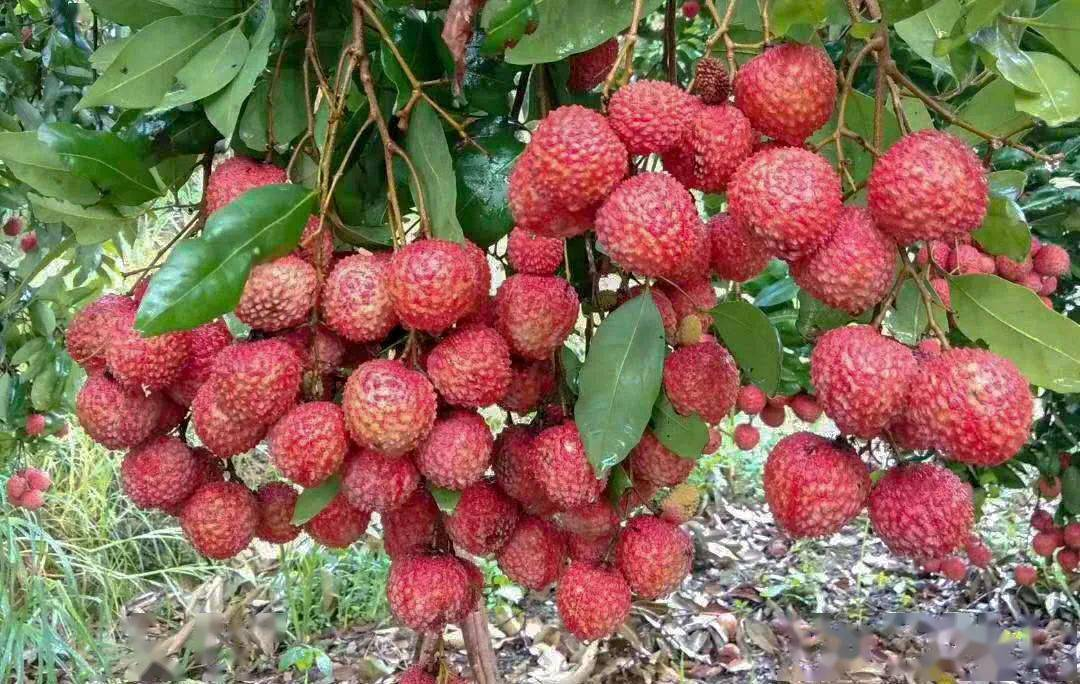litchi: (68, 150, 1038, 643), (503, 39, 839, 266), (868, 132, 988, 239), (914, 236, 1073, 315), (1011, 466, 1080, 590), (4, 462, 55, 511), (20, 408, 71, 443), (4, 208, 38, 253)
stem: (866, 0, 902, 87), (339, 3, 373, 80)
